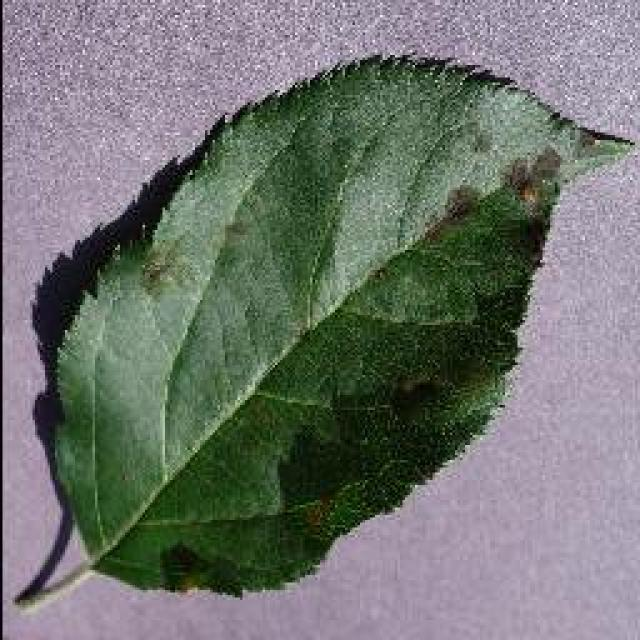apple scab disease: (12, 48, 638, 610)
